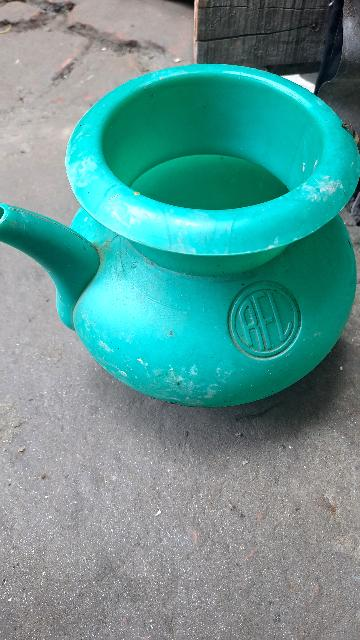hardplastic: (0, 59, 360, 416)
